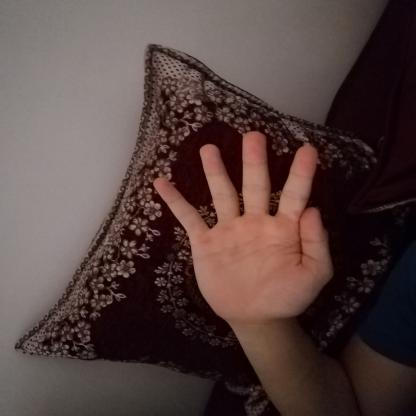SHEEN: (143, 124, 342, 333)
